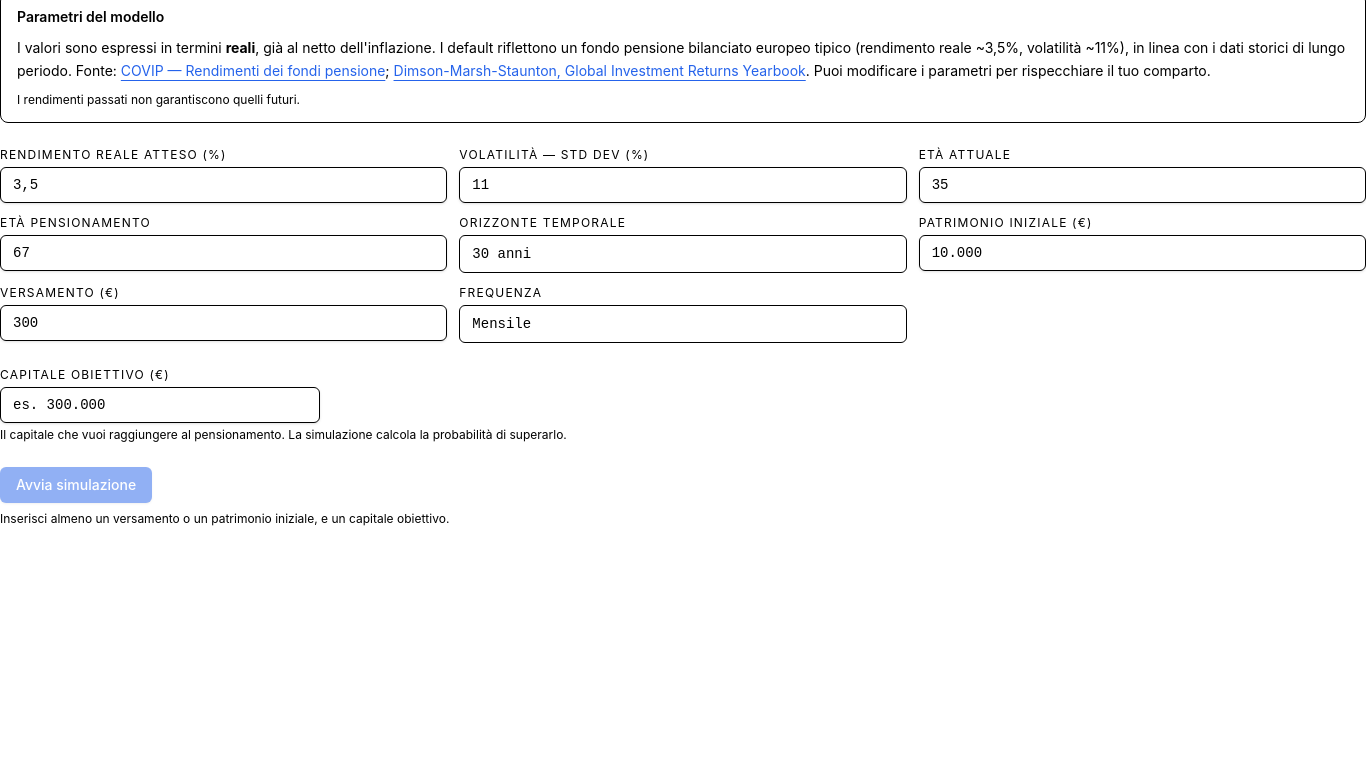
Test case: MonteCarlo component › simulation results › shows results after clicking "Avvia simulazione"
In the field labelled "Capitale obiettivo (€)": [160, 405] box x1=0 y1=387 x2=320 y2=423, type "200.000"
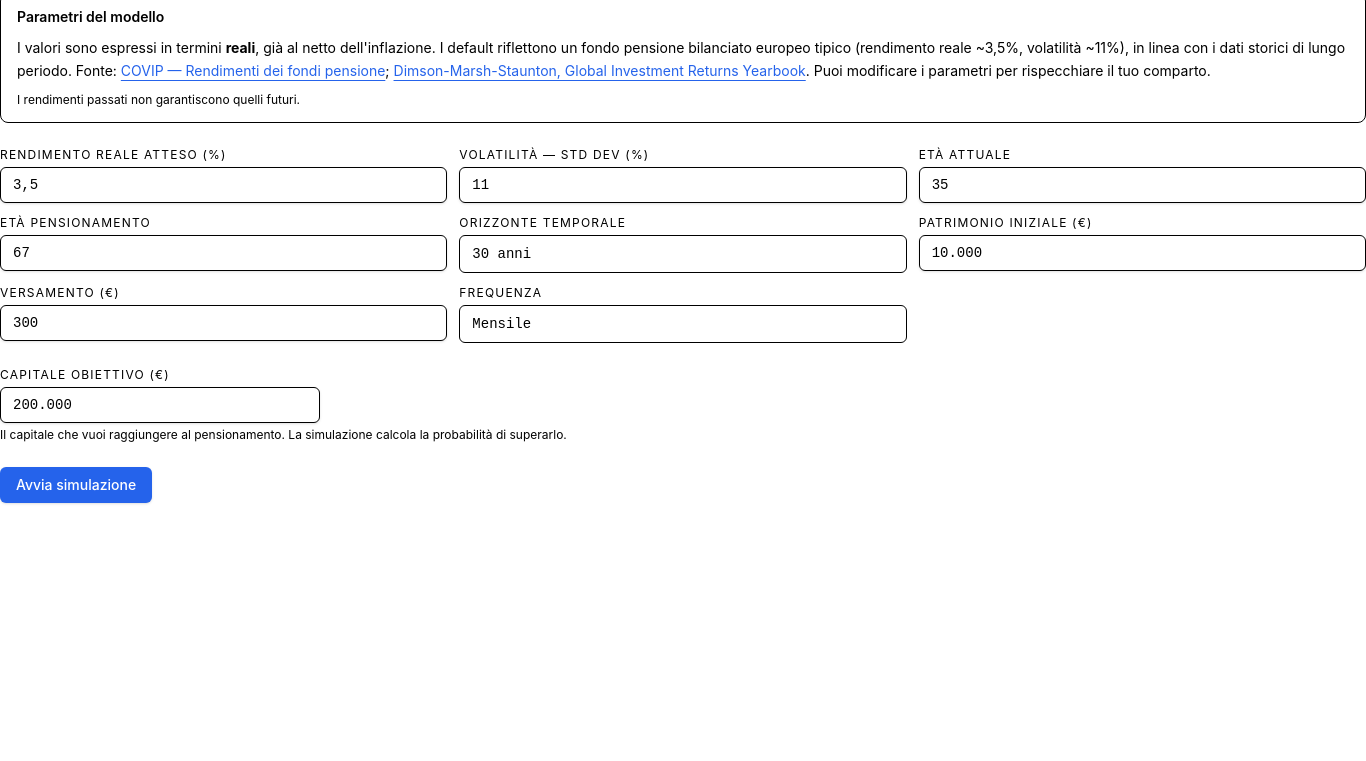
Click the button "Avvia simulazione": [76, 485] box x1=0 y1=467 x2=152 y2=503
(page scrolled)
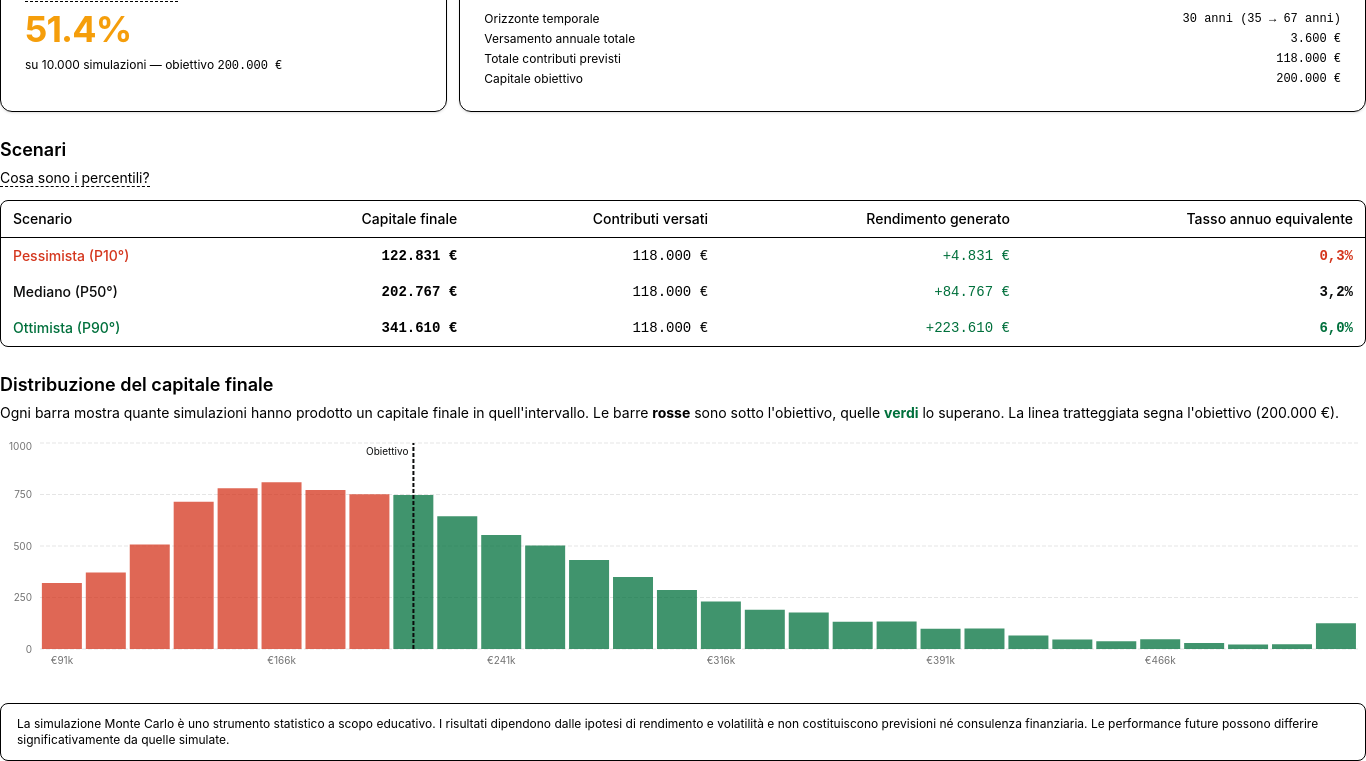
Now the heading "Scenari" is shown, box x1=0 y1=139 x2=66 y2=160
Now the heading "Distribuzione del capitale finale" is shown, box x1=0 y1=374 x2=274 y2=395
